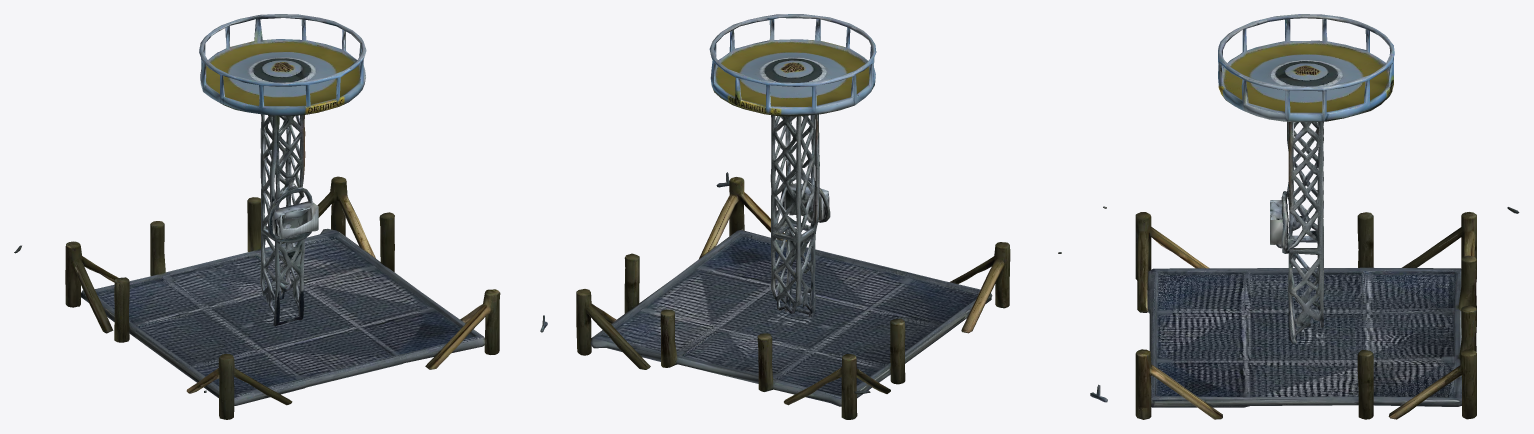
File: dronetower-compressed.glb
3 renders of one model, left to right at view 1: azimuth 30°, elevation 25°; view 2: azimuth 150°, elevation 25°; view 3: azimuth 270°, elevation 25°, orthographic. The views are drawn at different scales.
Parts seen in each view (by area): view 1: mesh_0; view 2: mesh_0; view 3: mesh_0.
Part boxes in pixels (x1,y1,x2,y2): mesh_0: (14, 14, 547, 419); mesh_0: (576, 14, 1061, 419); mesh_0: (1090, 14, 1519, 419).
Size of the model in its own units: 1.87 by 1.46 by 1.9.
1 material, 1 textured.
